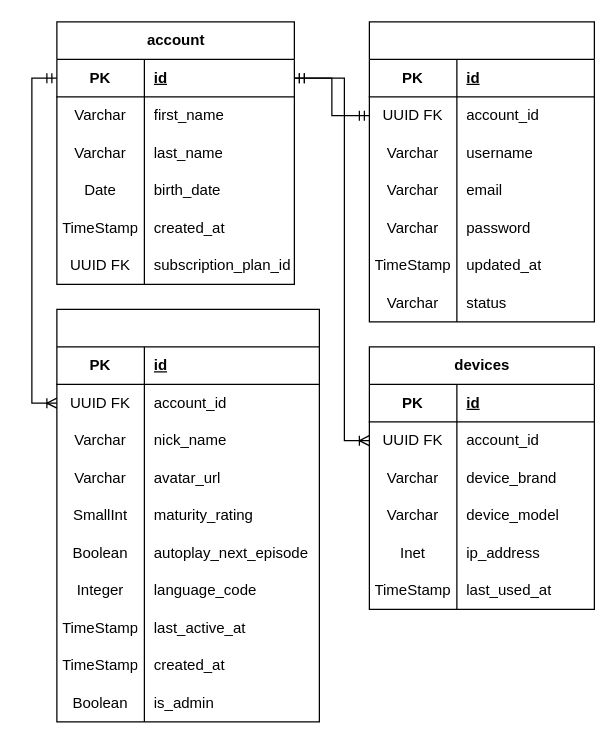
Some shapes in this 616 by 744 pixel diagram are drawn without their labels. Each missing label, with the box of its shape:
auth: (368, 21, 594, 322)
profiles: (56, 308, 319, 722)
